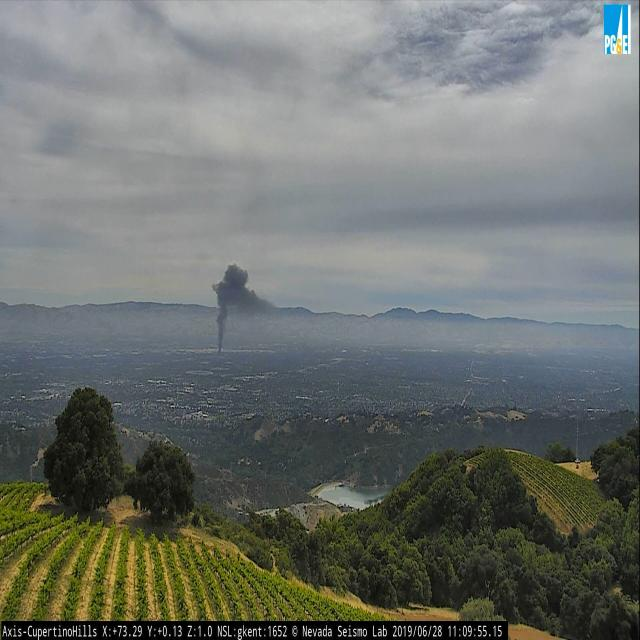smoke: (212, 262, 274, 352)
